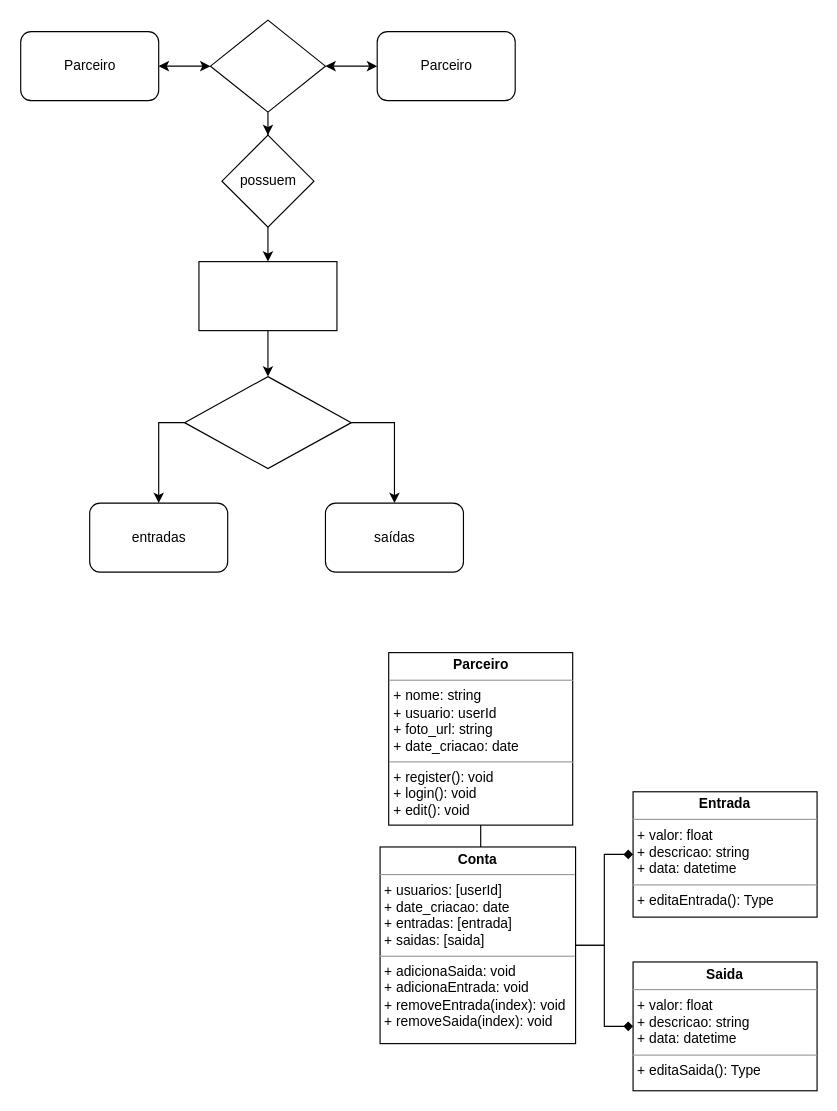
This 837x1111 diagram has some shape labels left out. The shapes that lost their labels are listed below. From the top down, each one's box as (x1, y1, x2, y2) in pixels, then its label:
(209, 19, 325, 112): vinculado com
(198, 260, 337, 331): conta
(183, 375, 351, 469): é formada por um conjunto de
